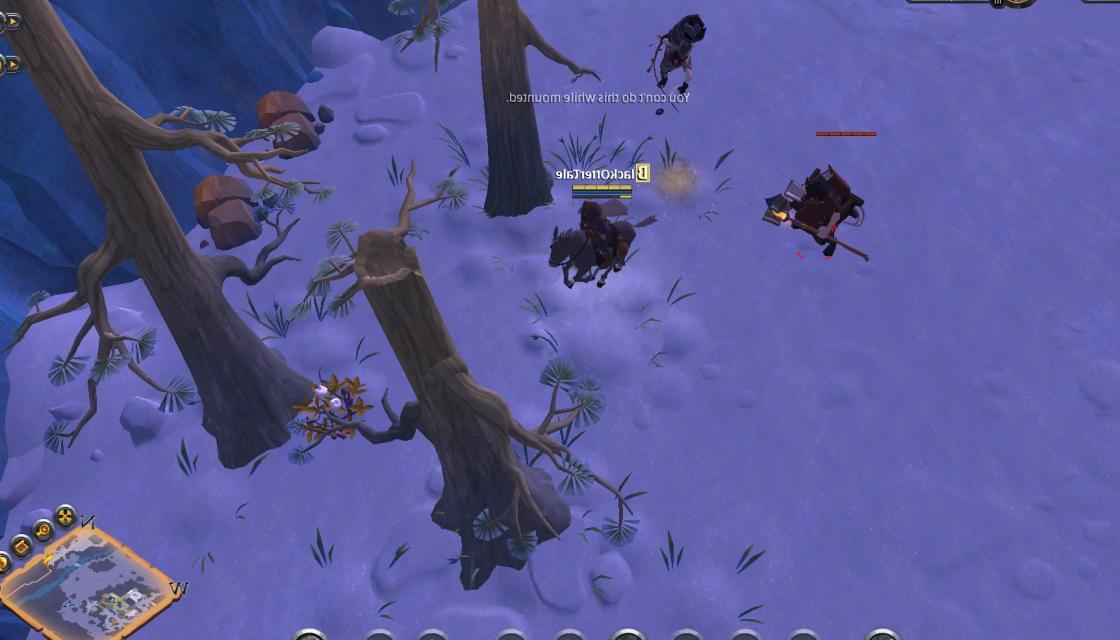limestone: (193, 174, 263, 246), (258, 88, 326, 154)
